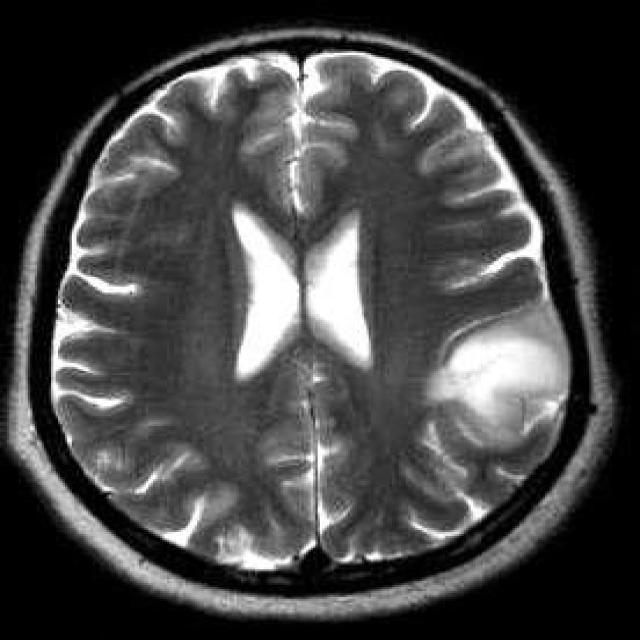notumor: (7, 27, 617, 624)
